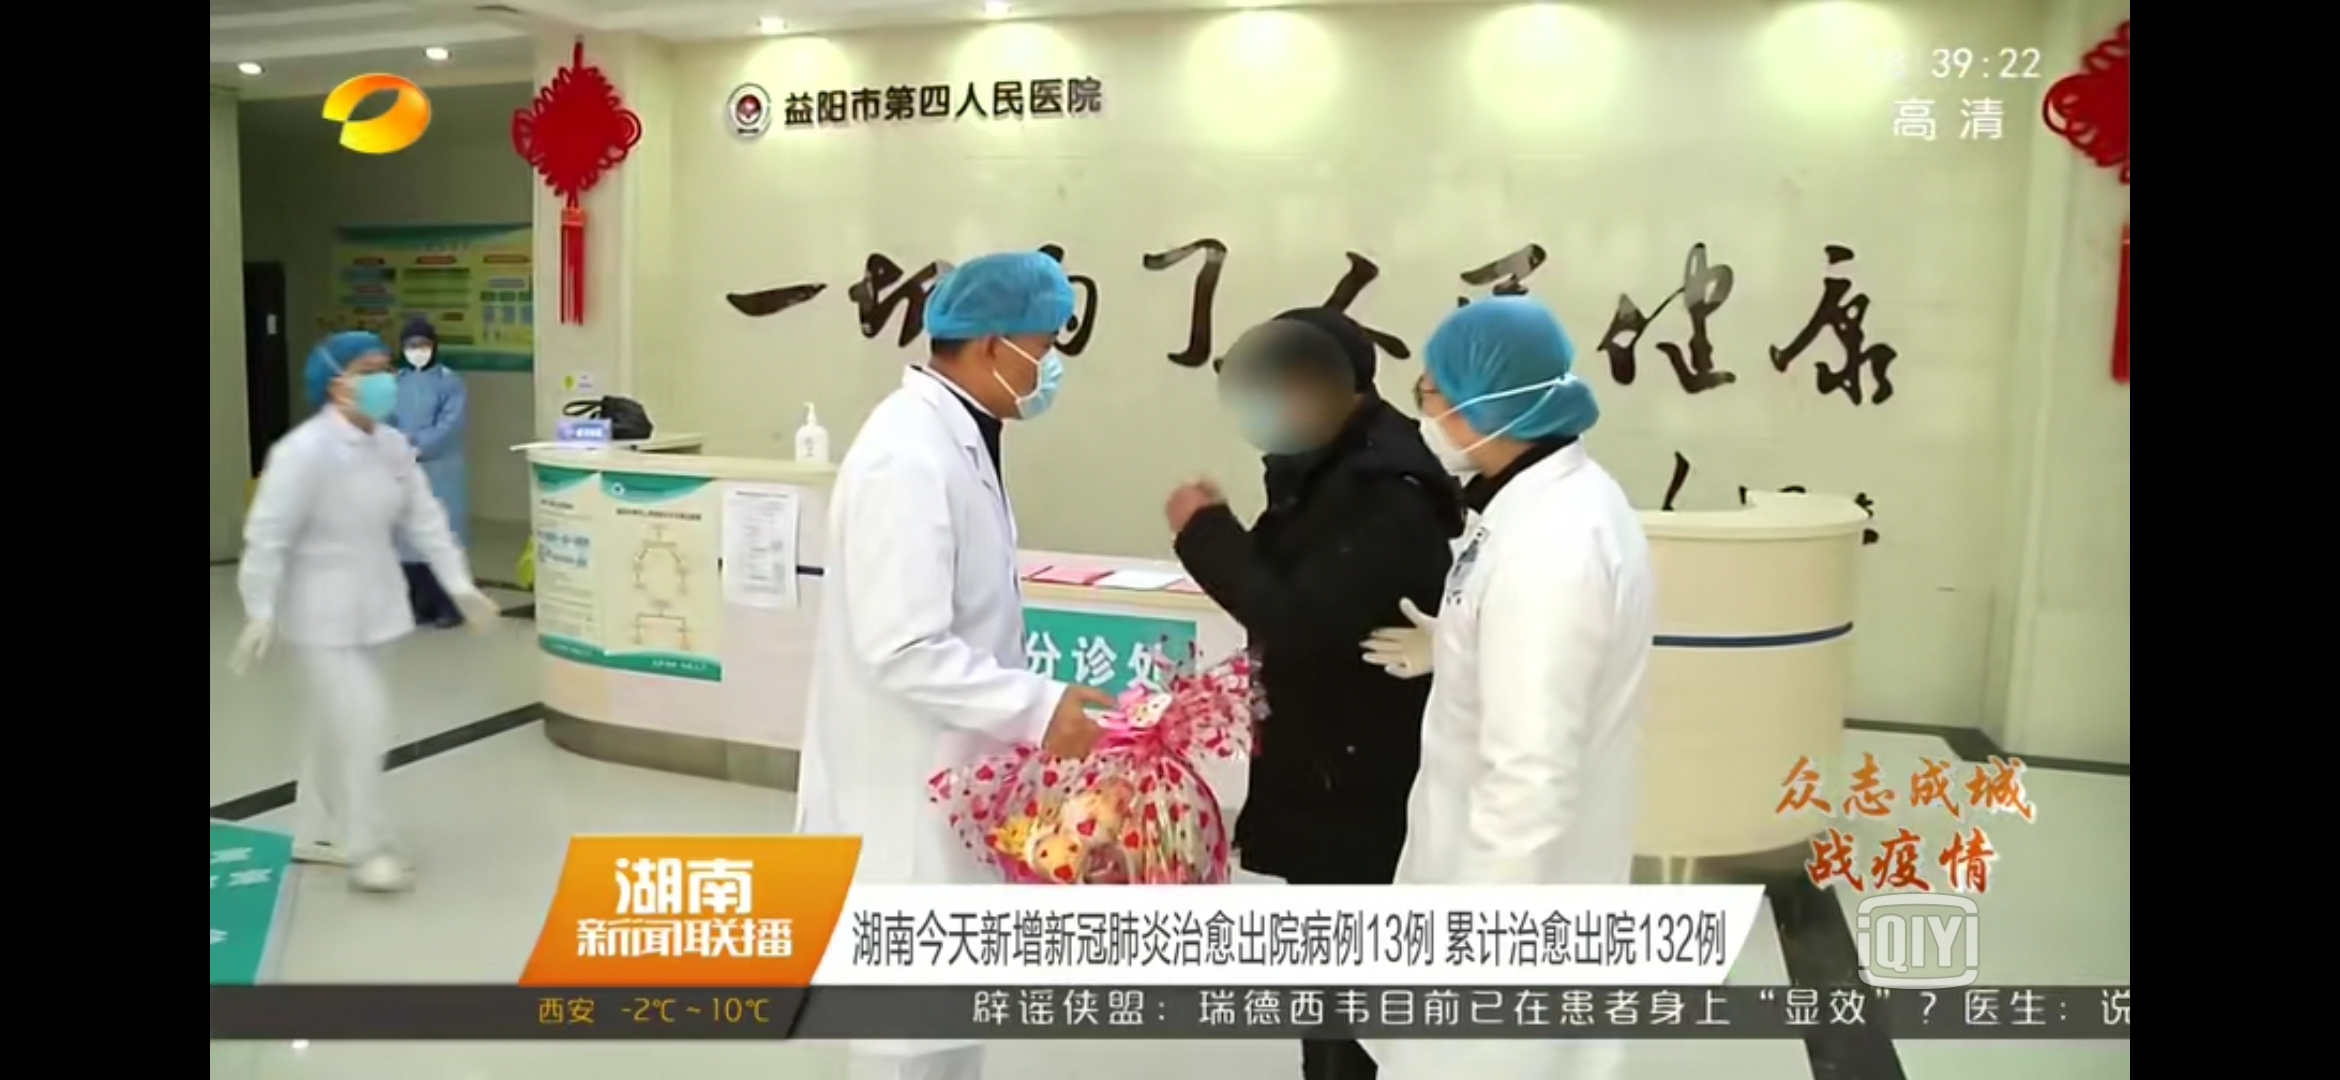correctlyWear: (1410, 351, 1530, 485), (977, 297, 1072, 427), (334, 360, 398, 430), (395, 328, 434, 371)
